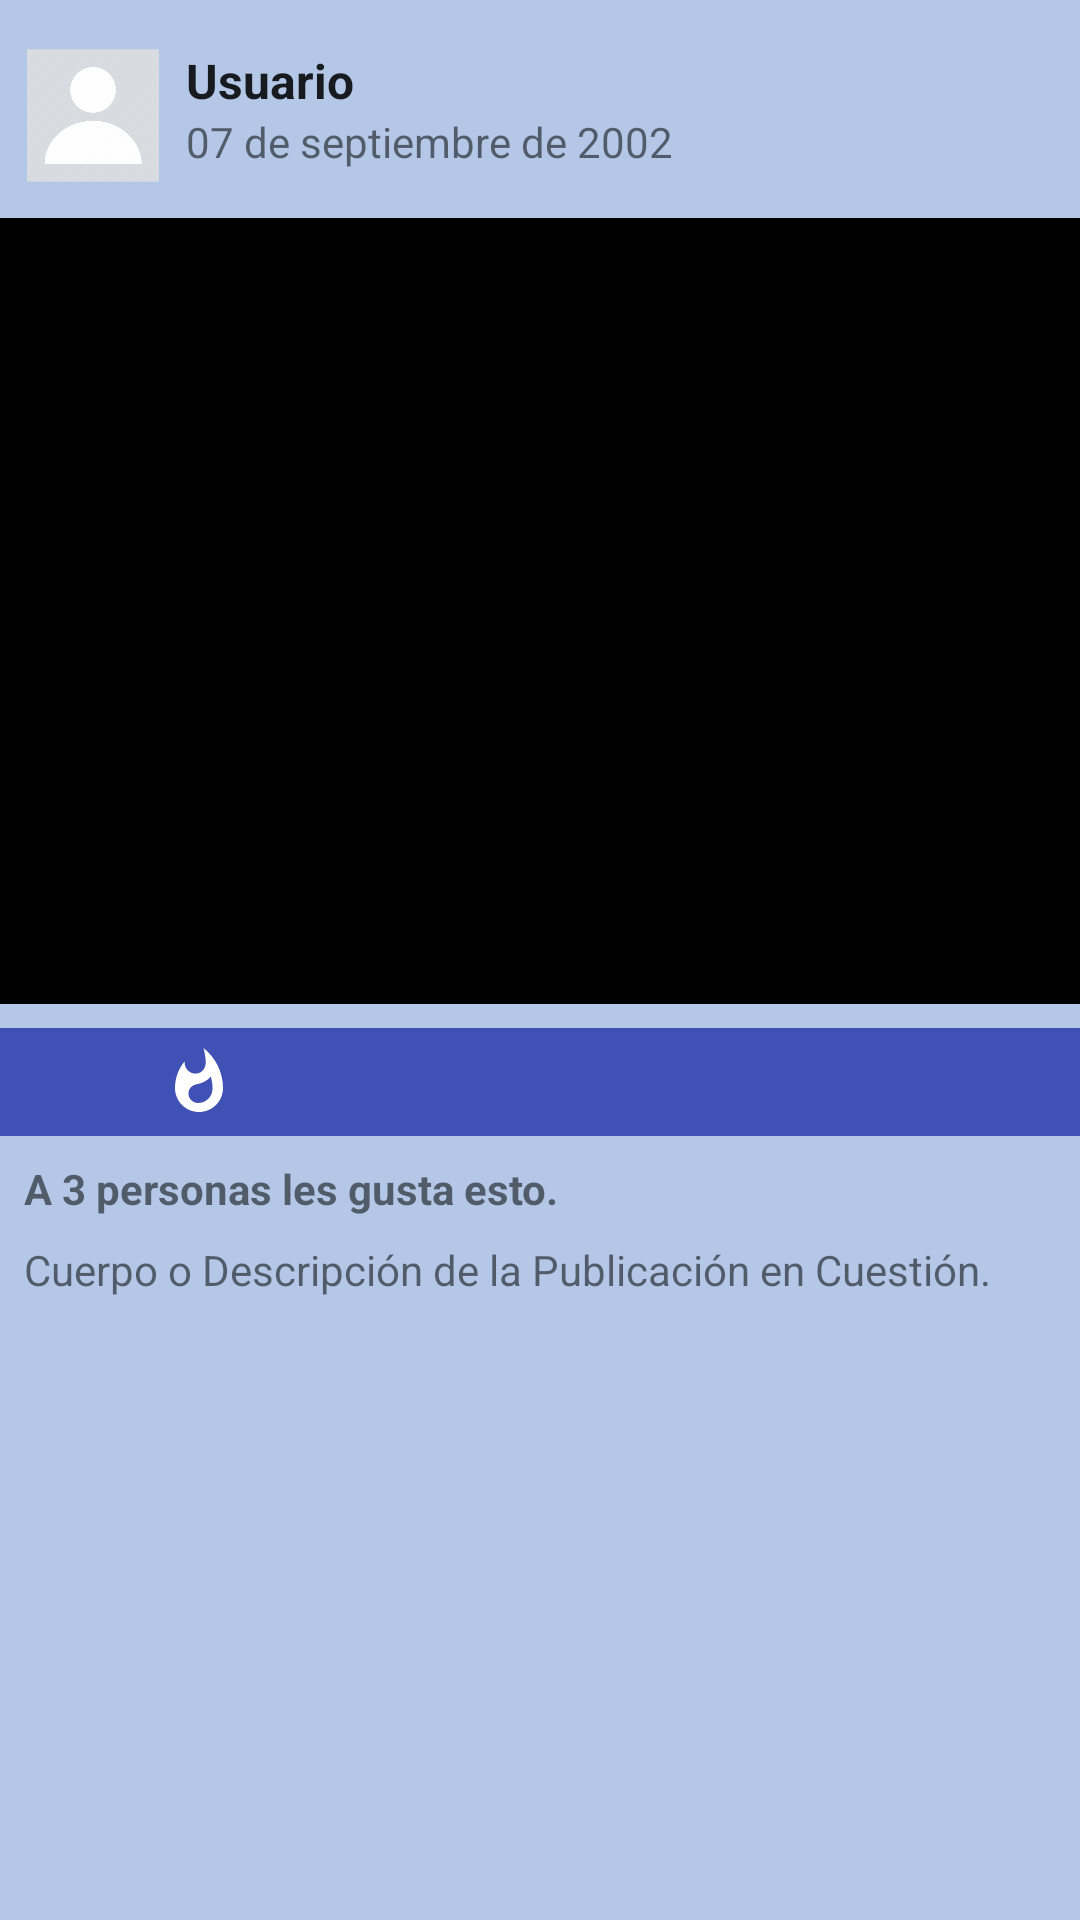

Named icons in this screenshot (1080px x 1920px) and their centers, (x,y):
profile: (93,115)
